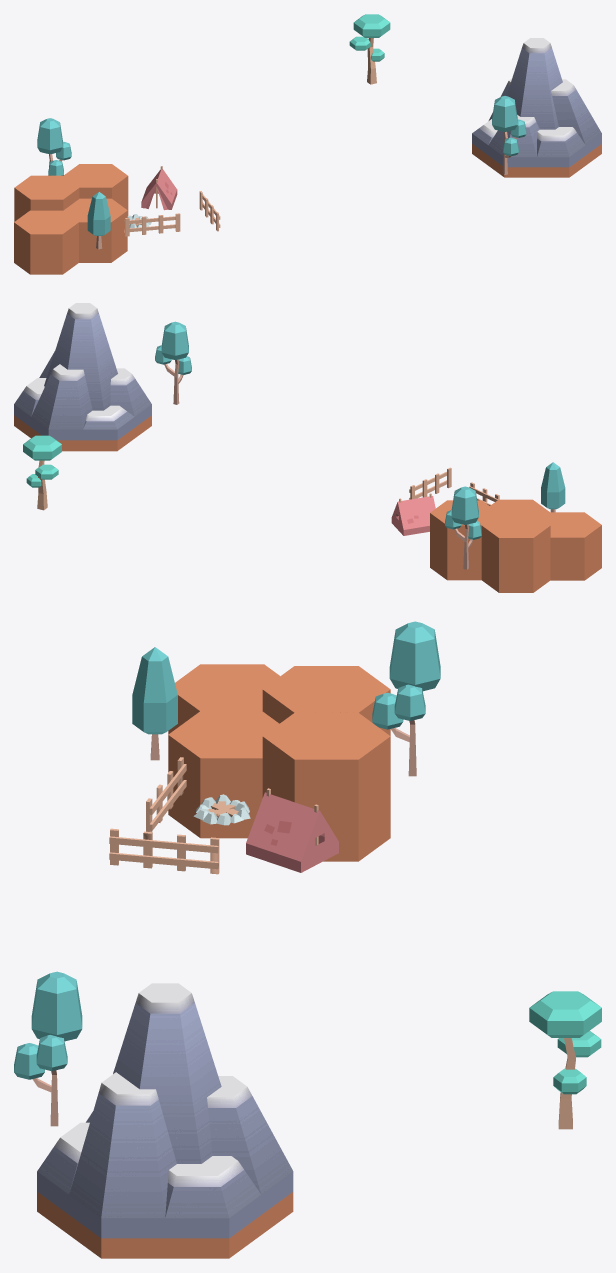
The model's file is map-top.glb.
3 views of the same model, one above another, from view 1: azimuth 30°, elevation 25°; view 2: azimuth 150°, elevation 25°; view 3: azimuth 270°, elevation 25° (orthographic). The views are drawn at different scales.
Visible parts, largest first — view 1: stone-mountain, dirt.003, dirt.002, dirt, dirt.001, tree_plateau, tree_thin_dark, tree_thin_dark.001, tree_small_dark, tent_smallOpen, fence_planksDouble.001, fence_planksDouble; view 2: stone-mountain, dirt, dirt.003, dirt.001, tree_thin_dark, tree_thin_dark.001, tree_plateau, tent_smallOpen, tree_small_dark, dirt.002, fence_planksDouble; view 3: stone-mountain, dirt.001, dirt.002, dirt, tree_thin_dark.001, tree_thin_dark, tent_smallOpen, tree_plateau, dirt.003, tree_small_dark, fence_planksDouble, fence_planksDouble.001 (+1 smaller).
Part boxes in pixels (<box>): stone-mountain: <box>472,38,601,177</box>; dirt.003: <box>14,210,78,274</box>; dirt.002: <box>63,198,127,262</box>; dirt: <box>14,175,79,221</box>; dirt.001: <box>63,164,128,215</box>; tree_plateau: <box>349,14,390,84</box>; tree_thin_dark: <box>492,96,526,175</box>; tree_thin_dark.001: <box>37,118,71,175</box>; tree_small_dark: <box>87,192,110,249</box>; tent_smallOpen: <box>141,166,177,210</box>; fence_planksDouble.001: <box>124,213,180,236</box>; fence_planksDouble: <box>199,191,220,231</box>; stone-mountain: <box>14,303,151,451</box>; dirt: <box>481,513,550,592</box>; dirt.003: <box>542,512,601,580</box>; dirt.001: <box>430,500,498,580</box>; tree_thin_dark: <box>155,321,191,404</box>; tree_thin_dark.001: <box>445,486,481,569</box>; tree_plateau: <box>23,435,61,510</box>; tent_smallOpen: <box>391,493,435,535</box>; tree_small_dark: <box>541,462,565,512</box>; dirt.002: <box>490,499,549,518</box>; fence_planksDouble: <box>409,467,451,499</box>; stone-mountain: <box>37,983,293,1258</box>; dirt.001: <box>262,712,390,861</box>; dirt.002: <box>168,711,279,838</box>; dirt: <box>262,666,390,735</box>; tree_thin_dark.001: <box>372,621,440,776</box>; tree_thin_dark: <box>14,971,82,1126</box>; tent_smallOpen: <box>246,788,338,872</box>; tree_plateau: <box>529,991,601,1129</box>; dirt.003: <box>168,664,279,734</box>; tree_small_dark: <box>132,647,177,760</box>; fence_planksDouble: <box>109,828,219,874</box>; fence_planksDouble.001: <box>146,757,186,832</box>.
Size of the model in its own units: 11.21 by 2.29 by 5.3.
Materials: 20 (5 with a texture image).
